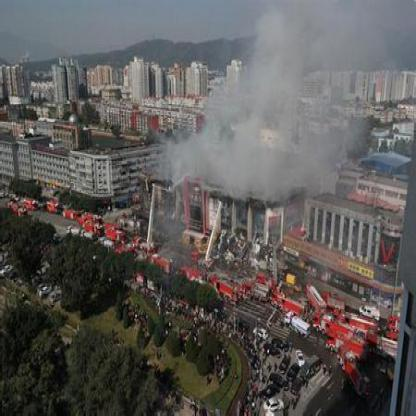smoke: (162, 129, 295, 200), (207, 70, 306, 130), (296, 130, 342, 208), (250, 10, 301, 70)
